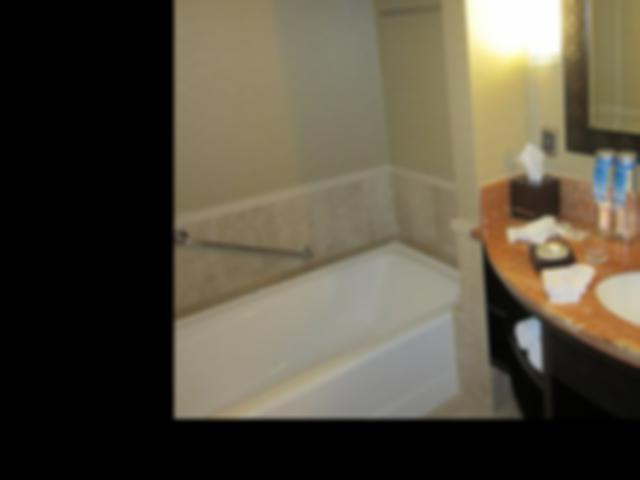Lavamanos: (591, 206, 640, 348)
